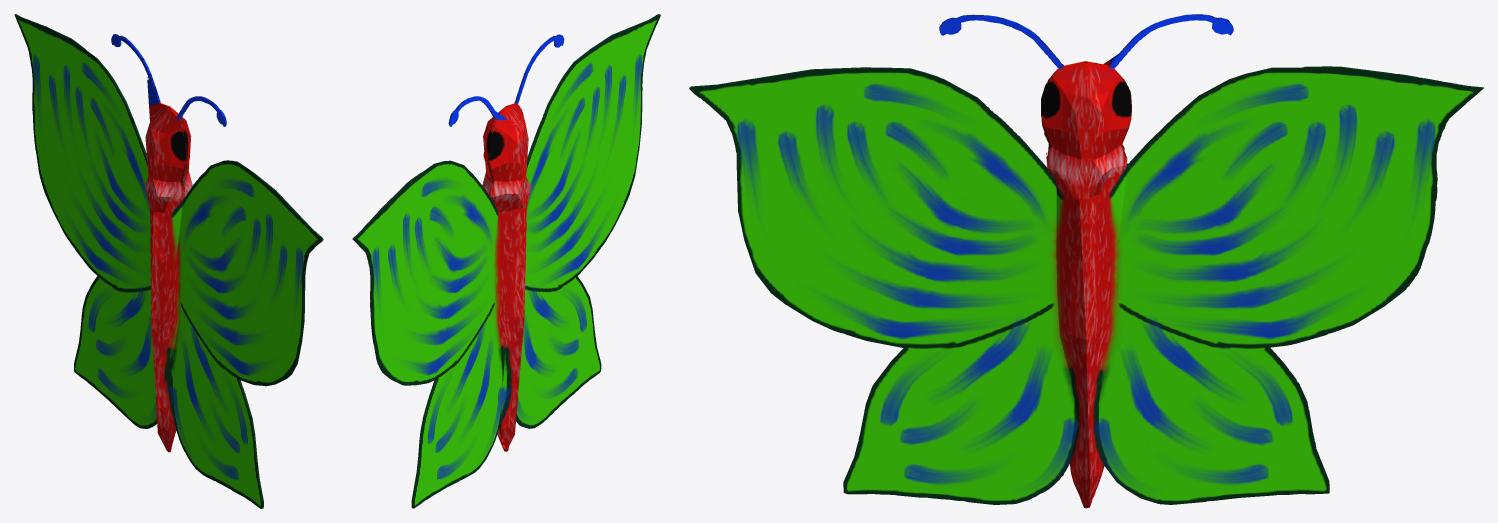
File: butterfly.fbx
3 views of the same model, side by side, from view 1: azimuth 30°, elevation 25°; view 2: azimuth 150°, elevation 25°; view 3: azimuth 270°, elevation 25° (orthographic). The views are drawn at different scales.
Visible parts, largest first — view 1: 7874fd85-c397-4176-97bd-ed7e67643b18; view 2: 7874fd85-c397-4176-97bd-ed7e67643b18; view 3: 7874fd85-c397-4176-97bd-ed7e67643b18.
Part boxes in pixels (x1=…): 7874fd85-c397-4176-97bd-ed7e67643b18: x1=14, y1=14, x2=323, y2=508; 7874fd85-c397-4176-97bd-ed7e67643b18: x1=352, y1=14, x2=660, y2=508; 7874fd85-c397-4176-97bd-ed7e67643b18: x1=689, y1=14, x2=1483, y2=508.
Bounding box in the file's own units: 0.0943 × 0.9601 × 1.4.
Materials: 1 (1 with a texture image).
